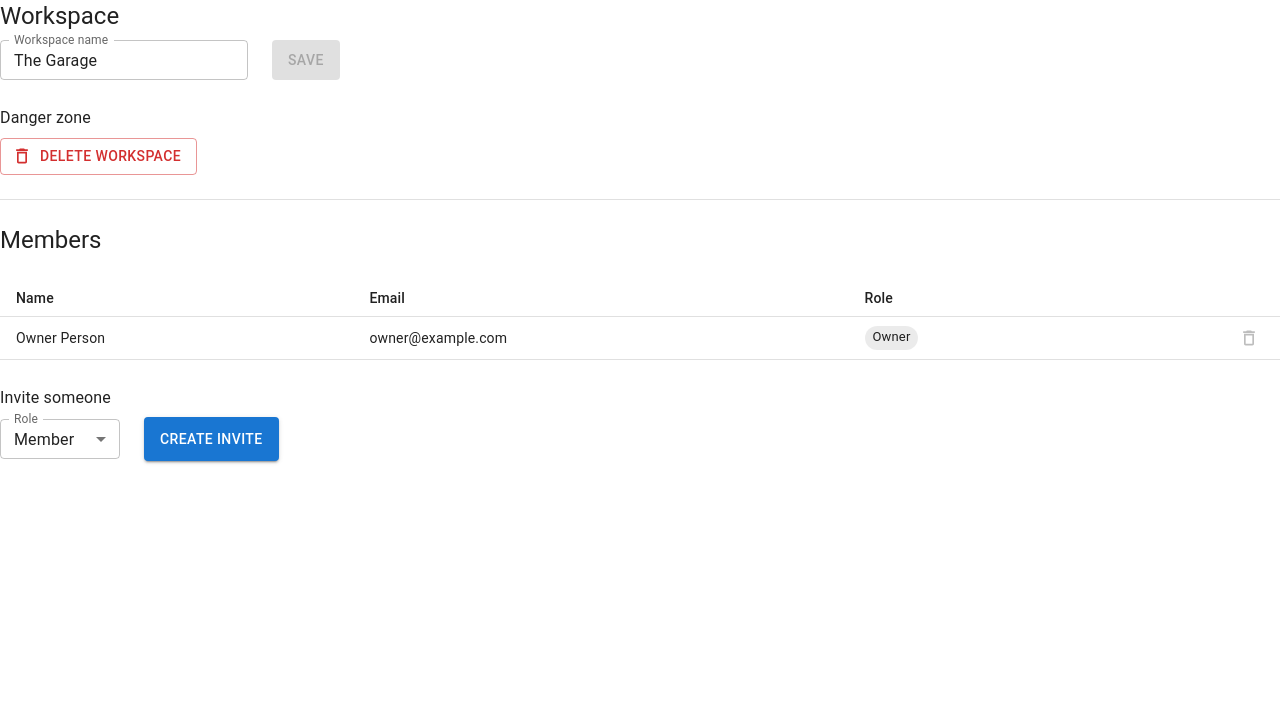
Scenario: MembersSettingsPage — workspace delete (EVT-47 AC2/AC4/AC5/AC6) › AC5: the destructive button stays disabled until the workspace name is typed exactly
Expected: the field labelled "Workspace name" is shown, [0, 40, 248, 80]
Click the button "Delete workspace" at (98, 156), box [0, 138, 197, 174]
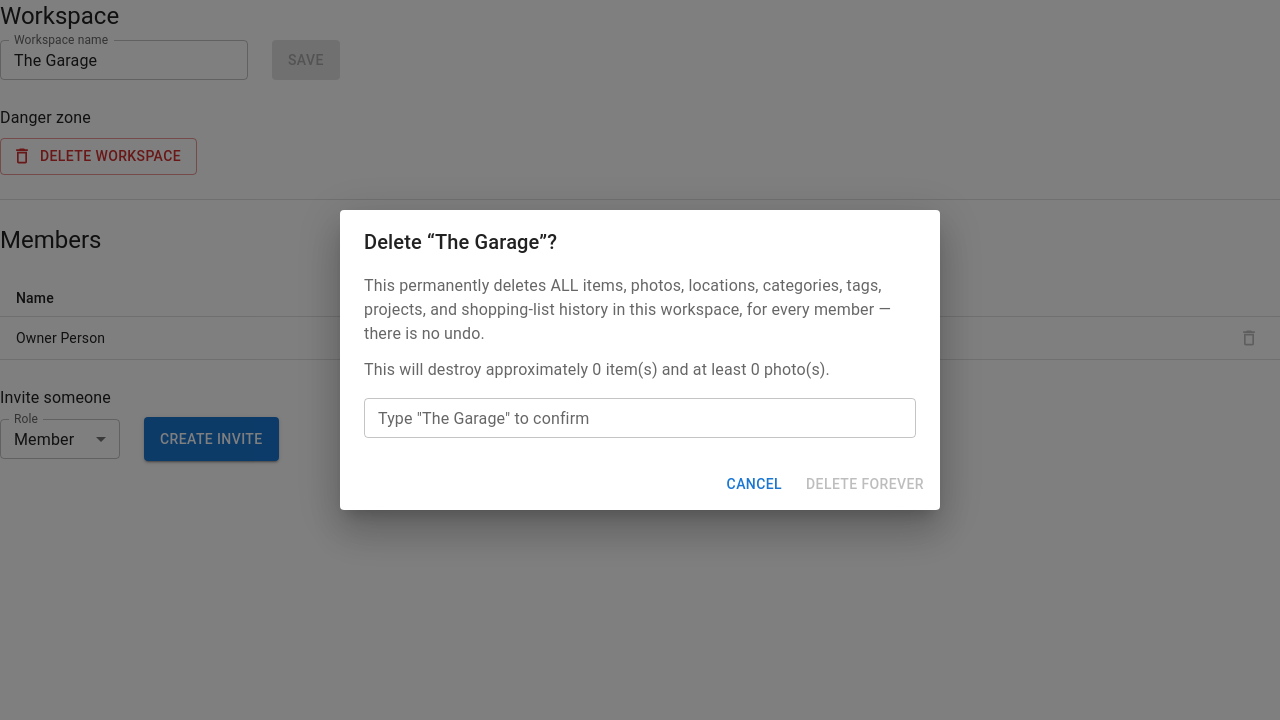
Expected: the button "Delete forever" is disabled, [798, 466, 932, 502]
Type "wrong name" into the field named "Confirm workspace name" at (640, 418), box [364, 398, 916, 438]
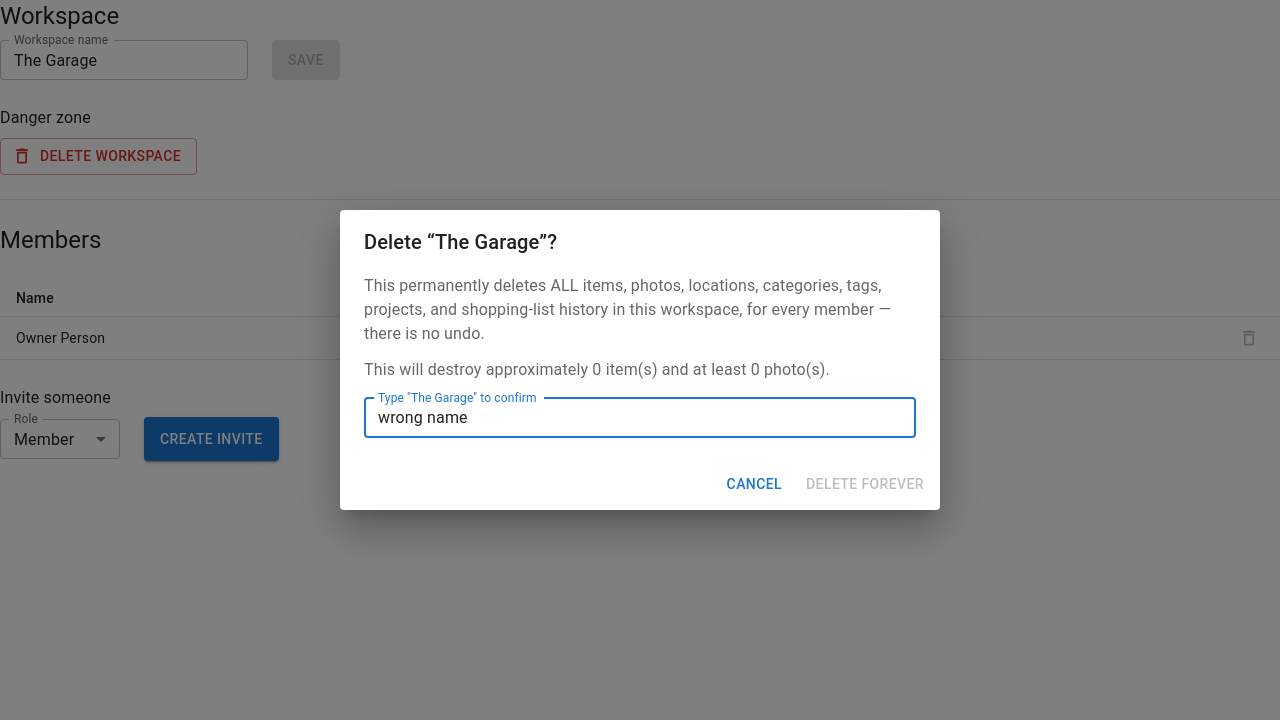
Expected: the button "Delete forever" is disabled, [798, 466, 932, 502]
Replace the text in the field named "Confirm workspace name" with "The Garage" at (640, 418), box [364, 398, 916, 438]
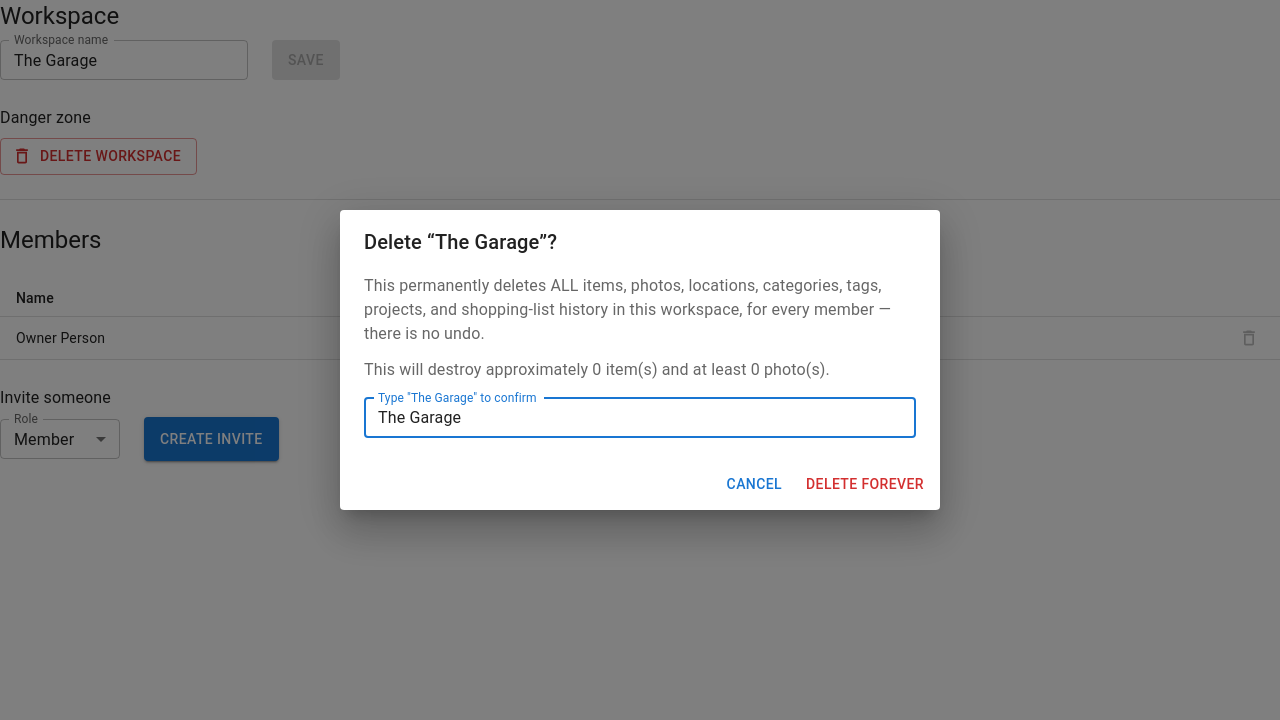
Expected: the button "Delete forever" is enabled, [798, 466, 932, 502]
